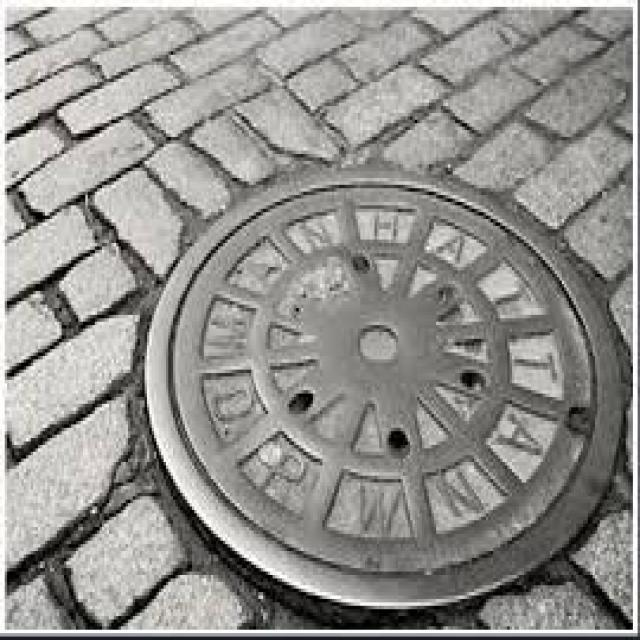Sewer Cover: (127, 119, 628, 638)
